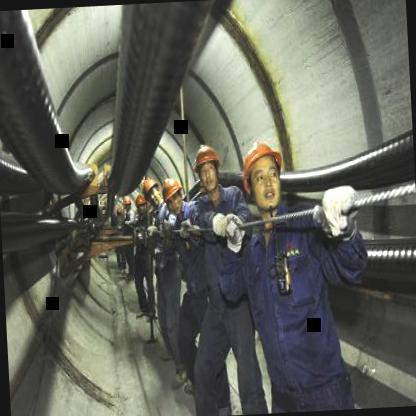helmet: (234, 132, 290, 213), (192, 140, 224, 192), (160, 175, 184, 216), (141, 173, 160, 208), (132, 194, 148, 212), (121, 195, 132, 210)
